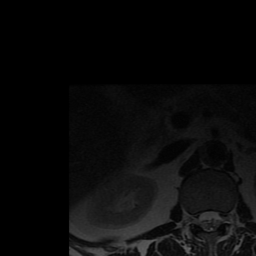CCS_normal: (206, 204, 212, 236)
LFS_normal: (220, 207, 228, 230)
LLS_normal: (212, 207, 220, 231)
RFS_normal: (191, 207, 199, 232)
RLS_normal: (199, 206, 206, 232)
